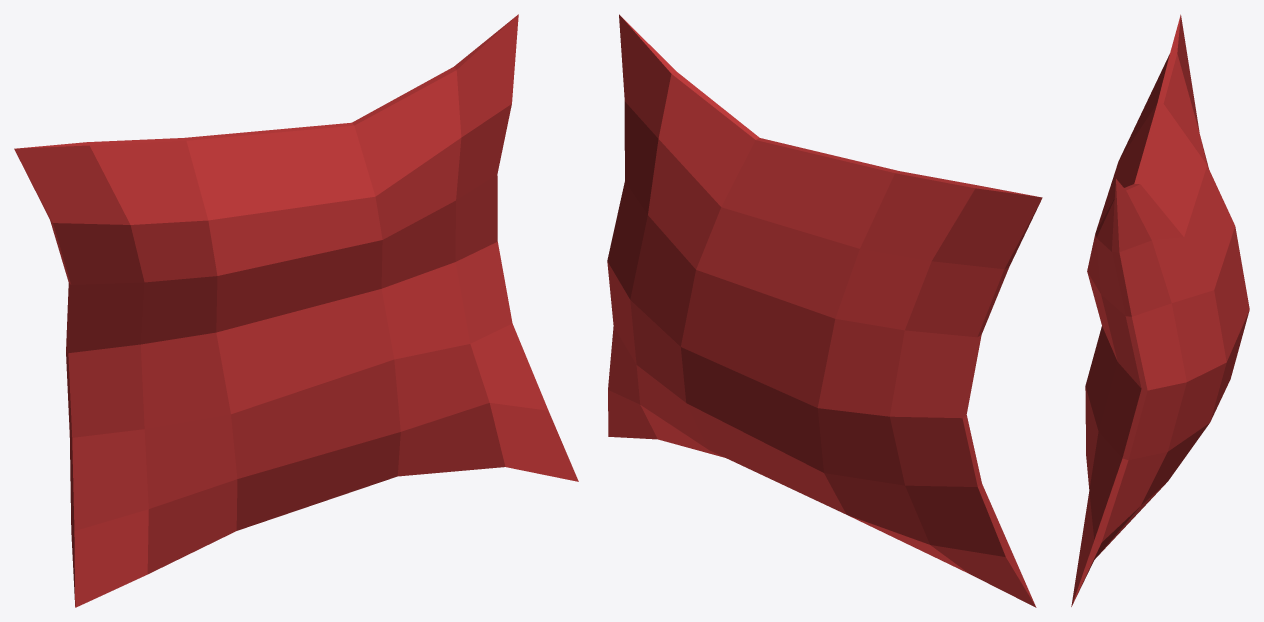
Rendered from Pillow_1.fbx.
3 renders of one model, left to right at view 1: azimuth 30°, elevation 25°; view 2: azimuth 150°, elevation 25°; view 3: azimuth 270°, elevation 25°, orthographic. The views are drawn at different scales.
Visible parts, largest first — view 1: Pillow_1; view 2: Pillow_1; view 3: Pillow_1.
Part boxes in pixels (left/top/right/bottom): Pillow_1: left=14, top=14, right=578, bottom=607; Pillow_1: left=607, top=14, right=1042, bottom=607; Pillow_1: left=1071, top=14, right=1249, bottom=606.
Bounding box in the file's own units: 67.81 × 23.04 × 63.5.
